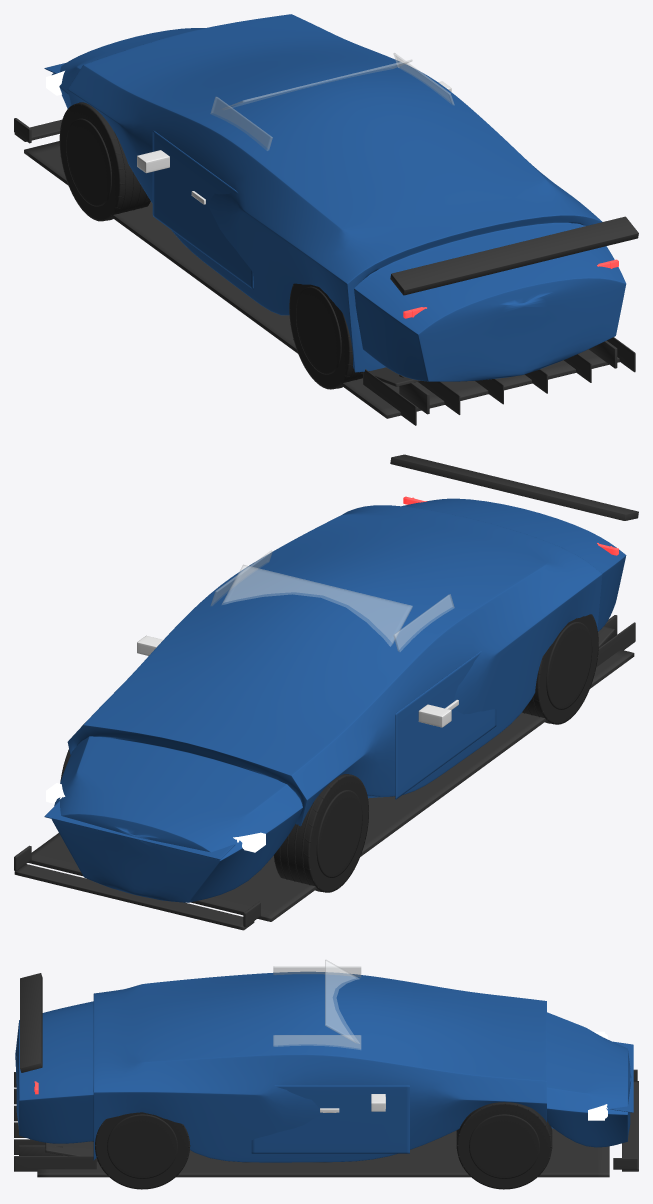
The model's file is Car_Lucid_Air_Sapphire_future_Complete.glb.
The picture shows the model from 3 angles, top to bottom: view 1: azimuth 30°, elevation 25°; view 2: azimuth 150°, elevation 25°; view 3: azimuth 270°, elevation 25°; orthographic projection. The views are drawn at different scales.
Visible parts, largest first — view 1: BODY_MainShell, UNDERBODY_FlatFloor, WHEEL_FL_Tire, BODY_Door_FL, AERO_Sapphire_Ducktail, WHEEL_RL_Tire, GLASS_Greenhouse, AERO_Sapphire_DiffuserVanes, JEWELRY_Hardware, AERO_FrontSplitter; view 2: BODY_MainShell, UNDERBODY_FlatFloor, WHEEL_FL_Tire, BODY_Door_FL, GLASS_Greenhouse, WHEEL_RL_Tire, AERO_FrontSplitter, AERO_Sapphire_Ducktail, BODY_Hood, JEWELRY_Hardware, LIGHTING_Headlamps; view 3: BODY_MainShell, UNDERBODY_FlatFloor, BODY_Door_FR, WHEEL_FR_Tire, WHEEL_RR_Tire, GLASS_Greenhouse, AERO_Sapphire_Ducktail, AERO_FrontSplitter, BODY_Hood, JEWELRY_Hardware, AERO_Sapphire_DiffuserVanes, LIGHTING_Headlamps.
Boxes of the visible parts, x1=… form: BODY_MainShell: x1=52, y1=14, x2=626, y2=381; UNDERBODY_FlatFloor: x1=24, y1=141, x2=635, y2=425; WHEEL_FL_Tire: x1=59, y1=102, x2=150, y2=221; BODY_Door_FL: x1=152, y1=130, x2=253, y2=289; AERO_Sapphire_Ducktail: x1=390, y1=216, x2=638, y2=295; WHEEL_RL_Tire: x1=289, y1=283, x2=362, y2=389; GLASS_Greenhouse: x1=210, y1=53, x2=454, y2=150; AERO_Sapphire_DiffuserVanes: x1=399, y1=340, x2=617, y2=414; JEWELRY_Hardware: x1=137, y1=81, x2=451, y2=204; AERO_FrontSplitter: x1=14, y1=118, x2=62, y2=143; BODY_MainShell: x1=51, y1=498, x2=626, y2=902; UNDERBODY_FlatFloor: x1=28, y1=622, x2=635, y2=921; WHEEL_FL_Tire: x1=274, y1=774, x2=368, y2=892; BODY_Door_FL: x1=395, y1=651, x2=496, y2=799; GLASS_Greenhouse: x1=210, y1=550, x2=454, y2=651; WHEEL_RL_Tire: x1=522, y1=614, x2=598, y2=724; AERO_FrontSplitter: x1=14, y1=845, x2=260, y2=930; AERO_Sapphire_Ducktail: x1=390, y1=454, x2=638, y2=520; BODY_Hood: x1=44, y1=801, x2=235, y2=859; JEWELRY_Hardware: x1=137, y1=635, x2=458, y2=727; LIGHTING_Headlamps: x1=46, y1=783, x2=265, y2=852; BODY_MainShell: x1=15, y1=971, x2=631, y2=1162; UNDERBODY_FlatFloor: x1=14, y1=1072, x2=609, y2=1177; BODY_Door_FR: x1=251, y1=1085, x2=409, y2=1153; WHEEL_FR_Tire: x1=456, y1=1102, x2=552, y2=1189; WHEEL_RR_Tire: x1=95, y1=1112, x2=190, y2=1189; GLASS_Greenhouse: x1=273, y1=960, x2=361, y2=1049; AERO_Sapphire_Ducktail: x1=20, y1=973, x2=42, y2=1072; AERO_FrontSplitter: x1=613, y1=1069, x2=638, y2=1171; BODY_Hood: x1=609, y1=1041, x2=633, y2=1112; JEWELRY_Hardware: x1=320, y1=1094, x2=385, y2=1112; AERO_Sapphire_DiffuserVanes: x1=19, y1=1145, x2=62, y2=1155; LIGHTING_Headlamps: x1=588, y1=1031, x2=607, y2=1120.
Size of what is drawn, in the model's own units: 2.28 by 1.35 by 5.11.
